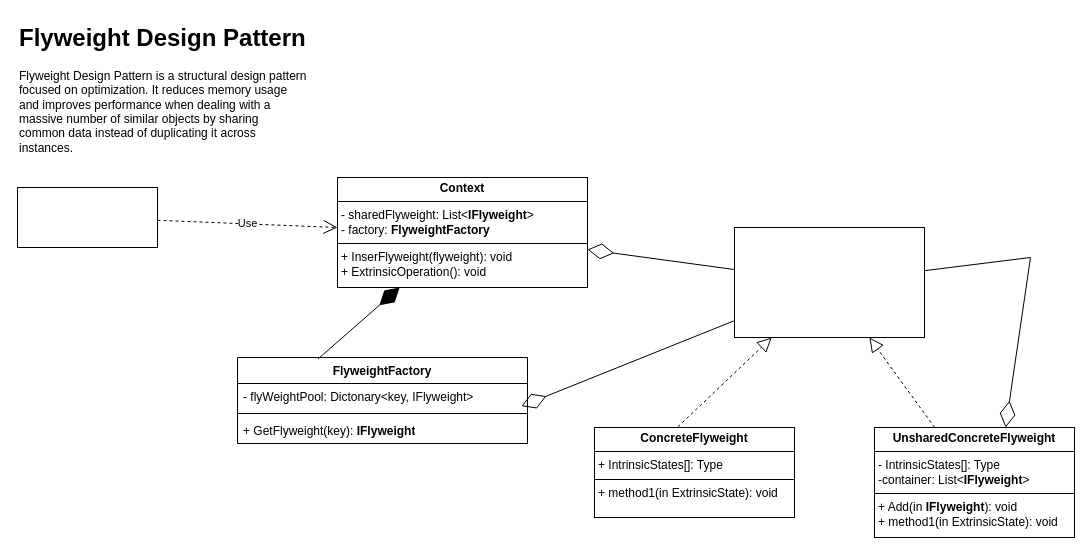
The diagram is 1092 pixels wide and 555 high, and some of its shapes have lost their labels. Here are the shapes that lost their labels. From the top down, the centre of each, then its label:
(87,217): Client
(829,282): <<Interface>> IFlyweight + method1(in ExtrinsicState): void
